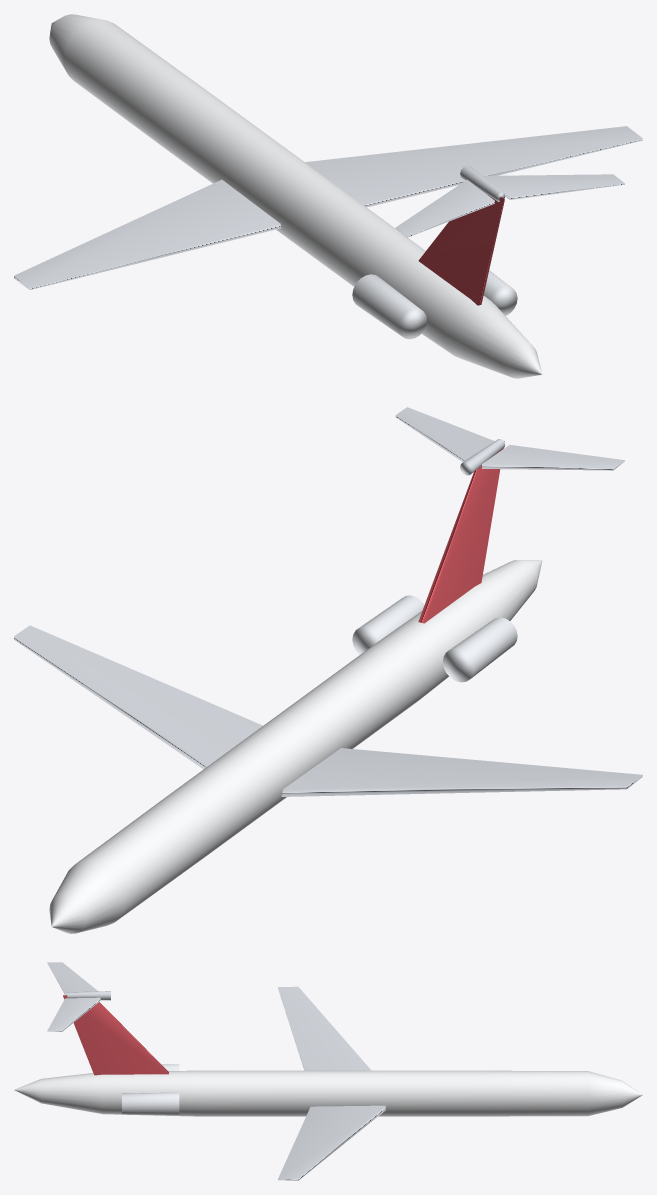
3 views of the same model, one above another, from view 1: azimuth 30°, elevation 25°; view 2: azimuth 150°, elevation 25°; view 3: azimuth 270°, elevation 25° (orthographic). The views are drawn at different scales.
Parts seen in each view (by area): view 1: Fuselage, Wings, TTailSection, RearEngines; view 2: Fuselage, Wings, TTailSection, RearEngines; view 3: Fuselage, Wings, TTailSection, RearEngines.
Part boxes in pixels (x1,y1,x2,y2): Fuselage: [49, 14, 542, 378]; Wings: [14, 126, 642, 289]; TTailSection: [395, 165, 624, 305]; RearEngines: [352, 270, 517, 339]; Fuselage: [49, 560, 542, 933]; Wings: [14, 625, 642, 796]; TTailSection: [395, 407, 624, 623]; RearEngines: [352, 595, 517, 682]; Fuselage: [14, 1070, 642, 1116]; Wings: [278, 986, 385, 1180]; TTailSection: [47, 962, 168, 1075]; RearEngines: [122, 1064, 179, 1115].
Size of the model in its own units: 33.2 by 9.91 by 46.
